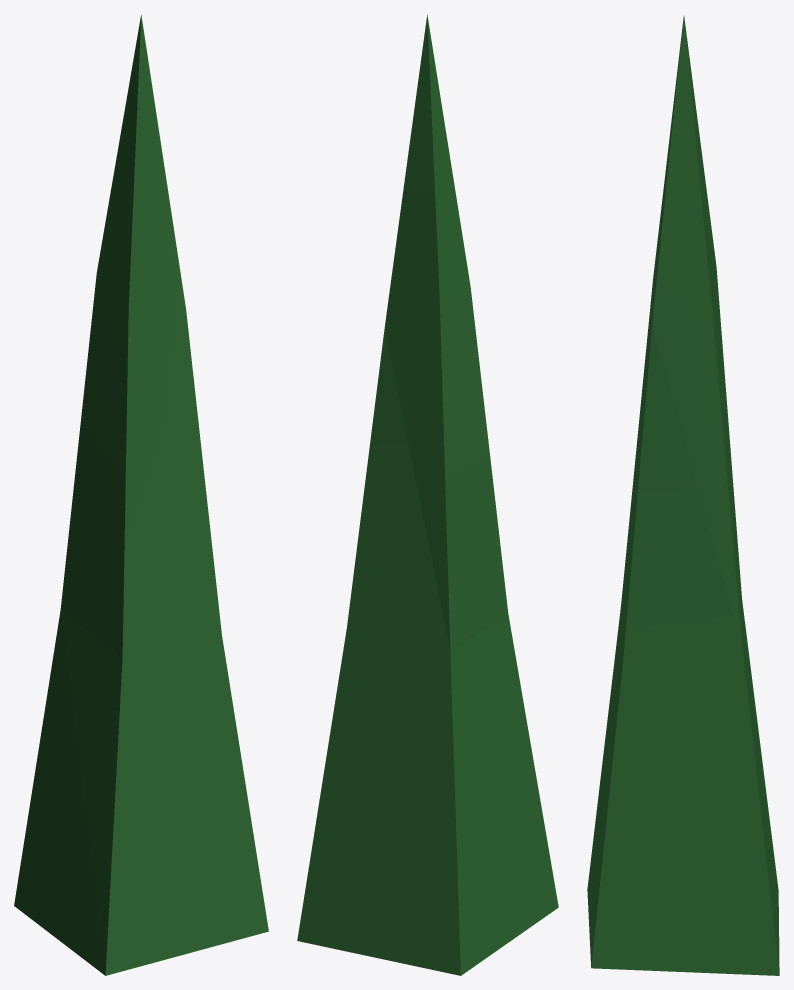
Rendered from nature_tree-pyramid.fbx.
3 renders of one model, left to right at view 1: azimuth 30°, elevation 25°; view 2: azimuth 150°, elevation 25°; view 3: azimuth 270°, elevation 25°, orthographic.
Visible parts, largest first — view 1: nature_tree_pyramid; view 2: nature_tree_pyramid; view 3: nature_tree_pyramid.
Boxes of the visible parts, box(x1,y1,x2,y2) form: nature_tree_pyramid: box(14, 15, 268, 975); nature_tree_pyramid: box(297, 15, 558, 975); nature_tree_pyramid: box(587, 15, 779, 975).
Size of the model in its own units: 38.17 by 200 by 37.82.
